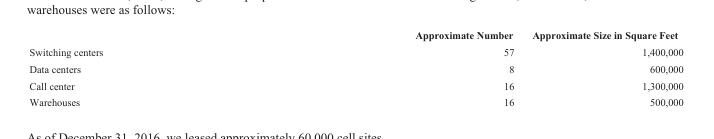table: (28, 29, 682, 107)
table column: (258, 29, 522, 107), (28, 29, 258, 107), (522, 29, 682, 107)
table column header: (28, 29, 682, 43)
table row: (28, 59, 682, 76), (28, 76, 682, 93), (28, 43, 682, 59), (28, 29, 682, 43), (28, 93, 682, 107)
